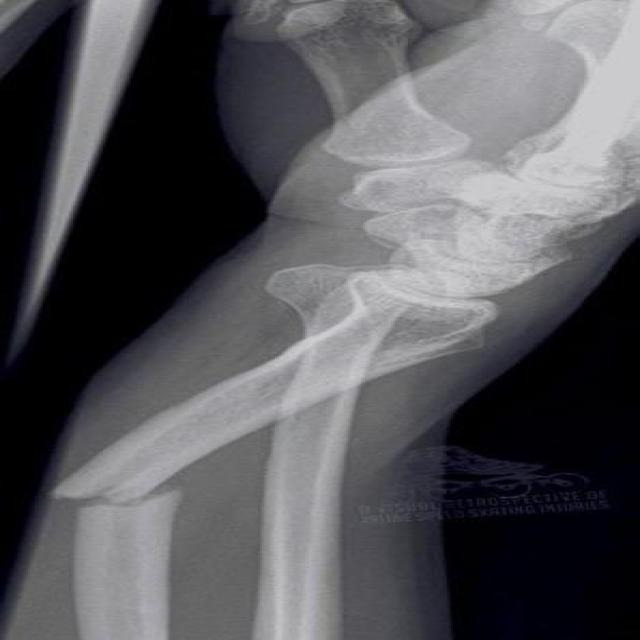fracture: (61, 484, 166, 515)
